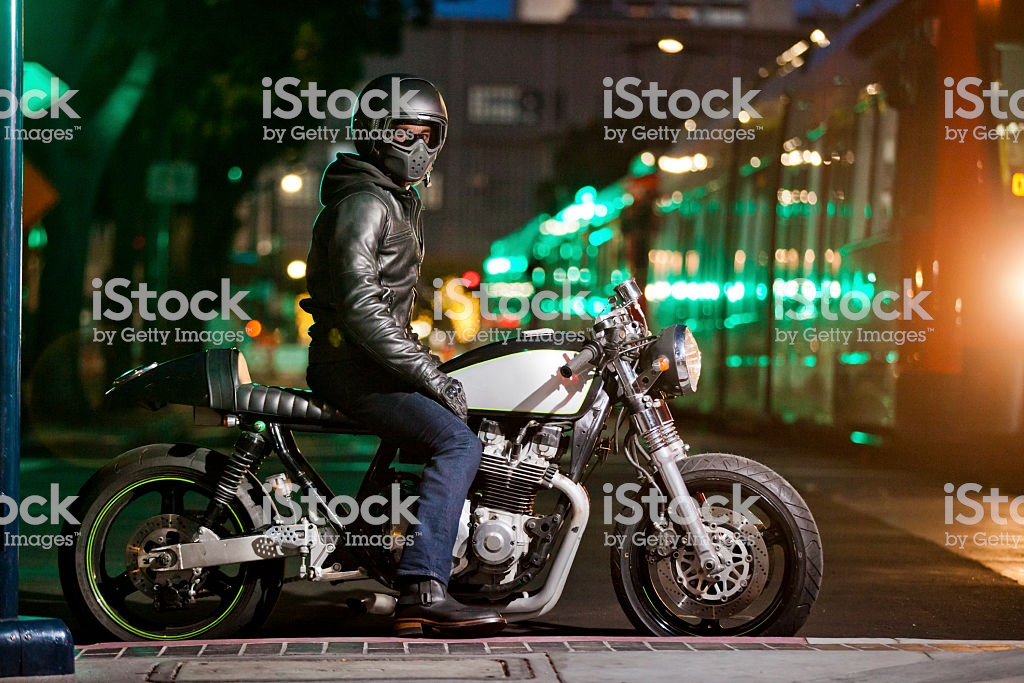helmet: (352, 64, 447, 188)
